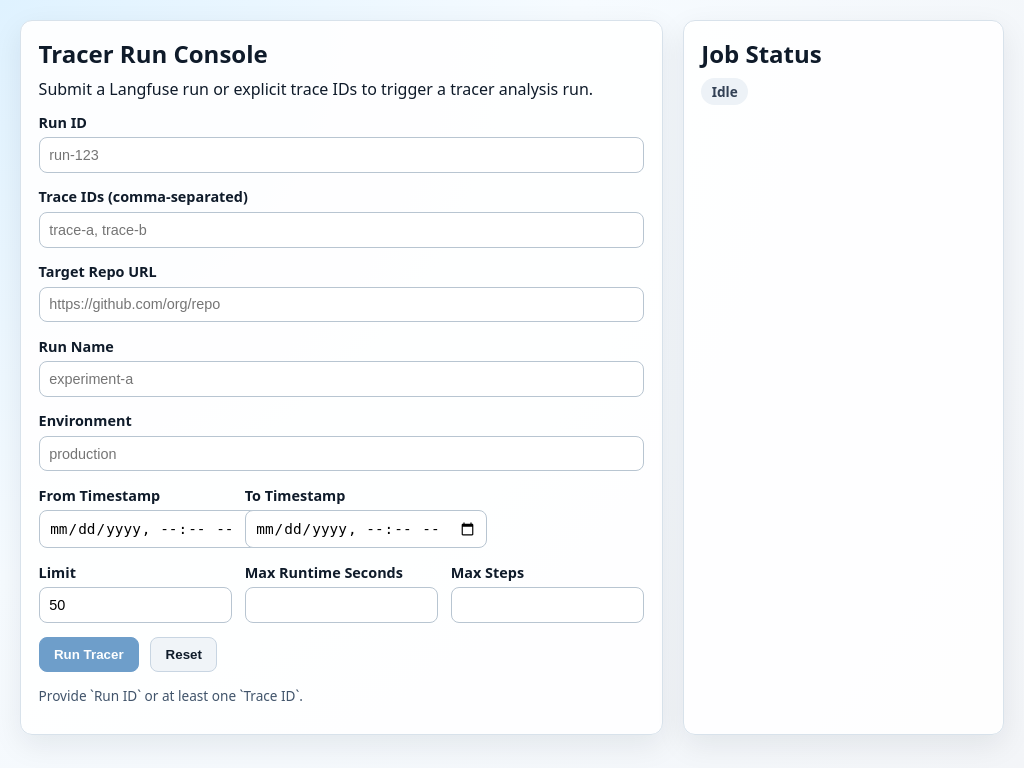
Scenario: App tracer run UI › shows running state while tracer request is in flight and resets controls on completion
Type "run-delayed-1" into the field labelled "Run ID" at {"x": 341, "y": 155}, box [39, 137, 644, 173]
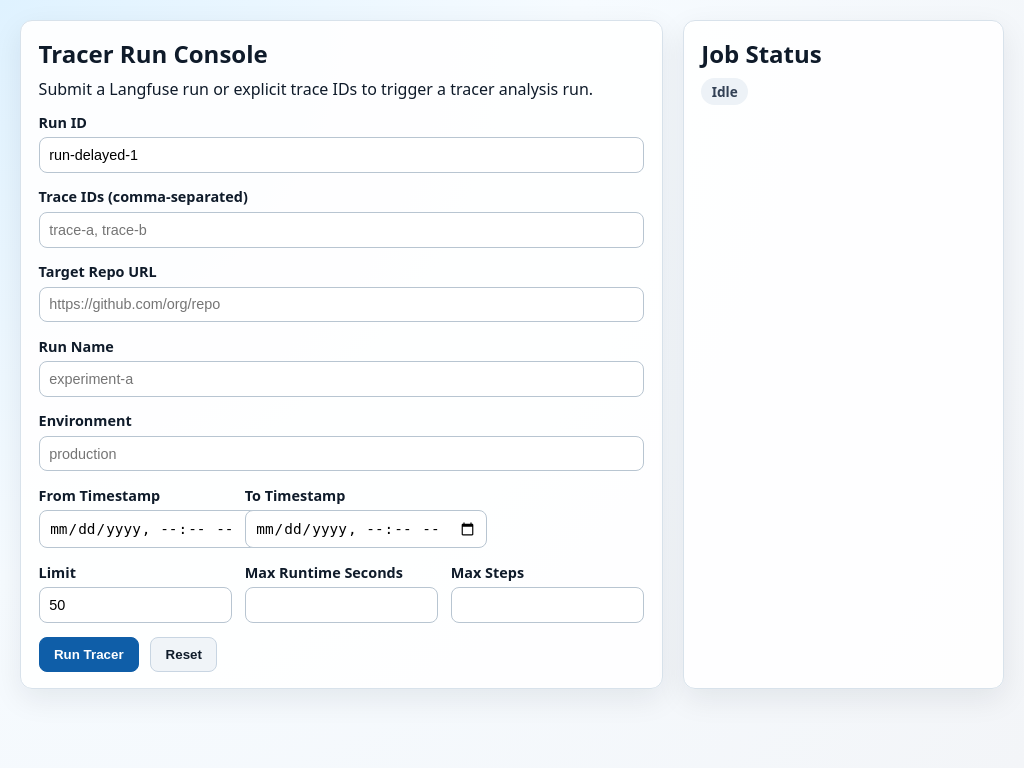
Click the button "Run Tracer" at {"x": 89, "y": 654}, box [39, 637, 139, 672]
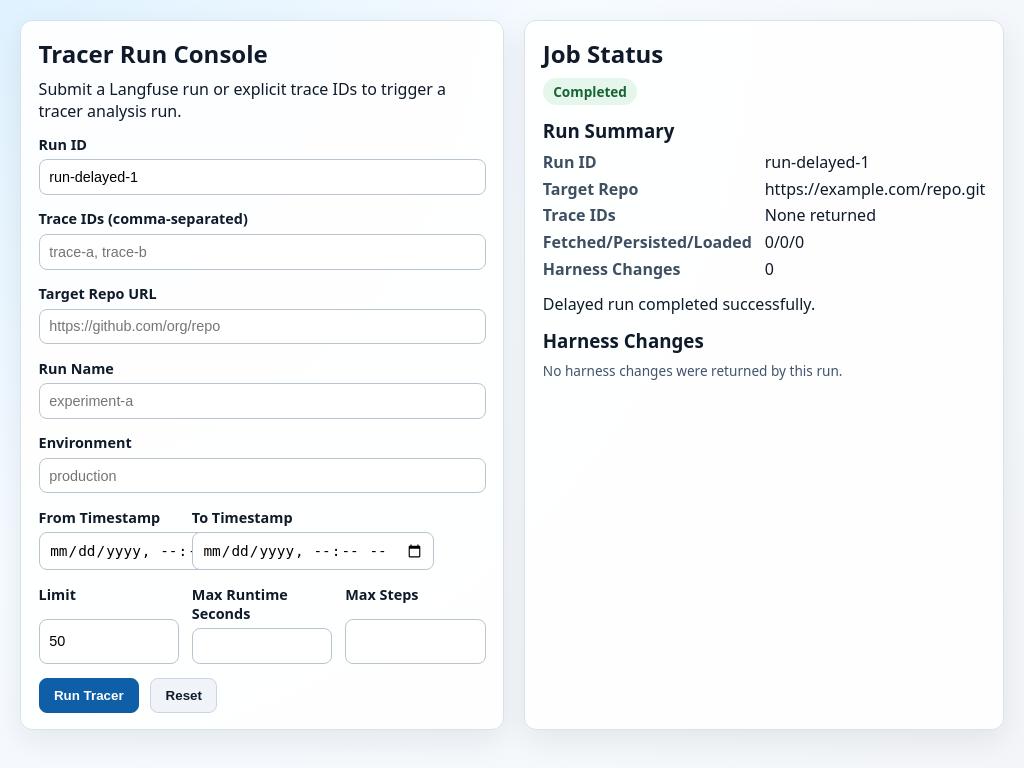
Expected: the button "Run Tracer" is shown, [39, 678, 139, 713]
Now the text "Completed" is shown, box [543, 78, 637, 105]
Now the text "Delayed run completed successfully." is shown, box [543, 293, 815, 315]
